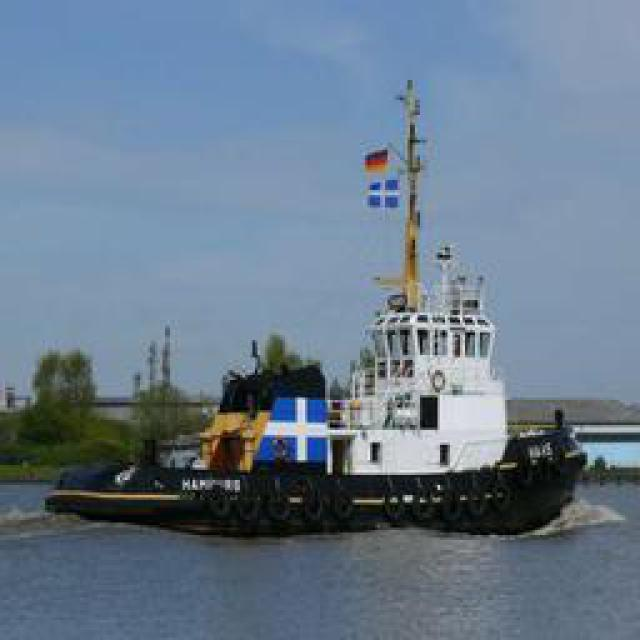Ship: (61, 79, 601, 552)
